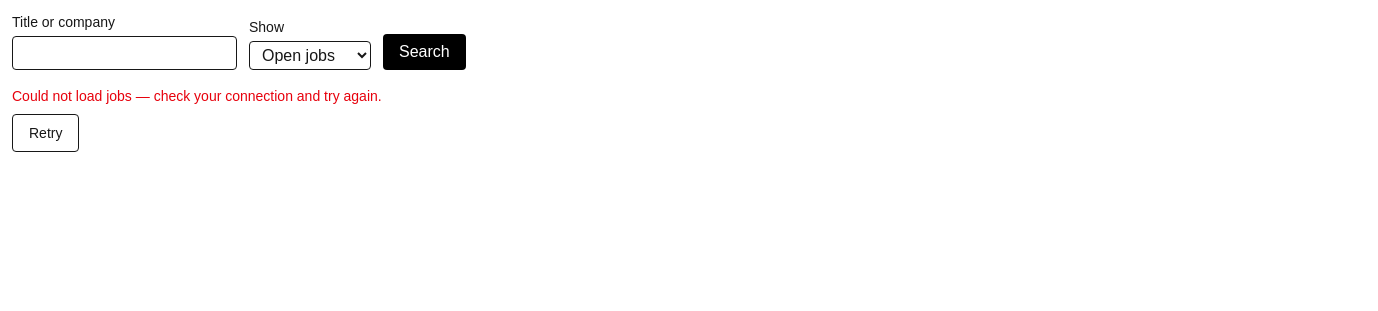
JobsClient › retries a failed load when Retry is clicked
Click the button "Retry" at point(46, 133), box x1=12 y1=114 x2=80 y2=152
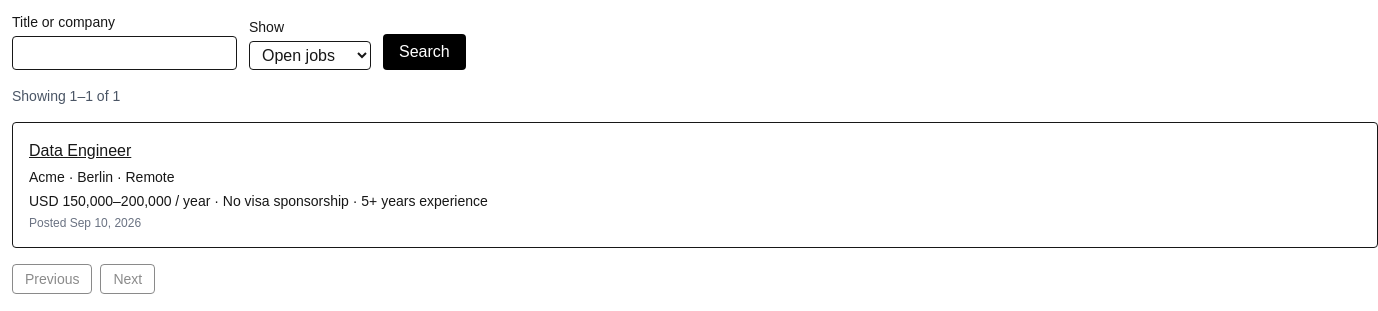
Result: the link "Data Engineer" is shown at x1=29 y1=139 x2=131 y2=163
Result: the message "Could not load jobs — check your connection and try again." is gone
